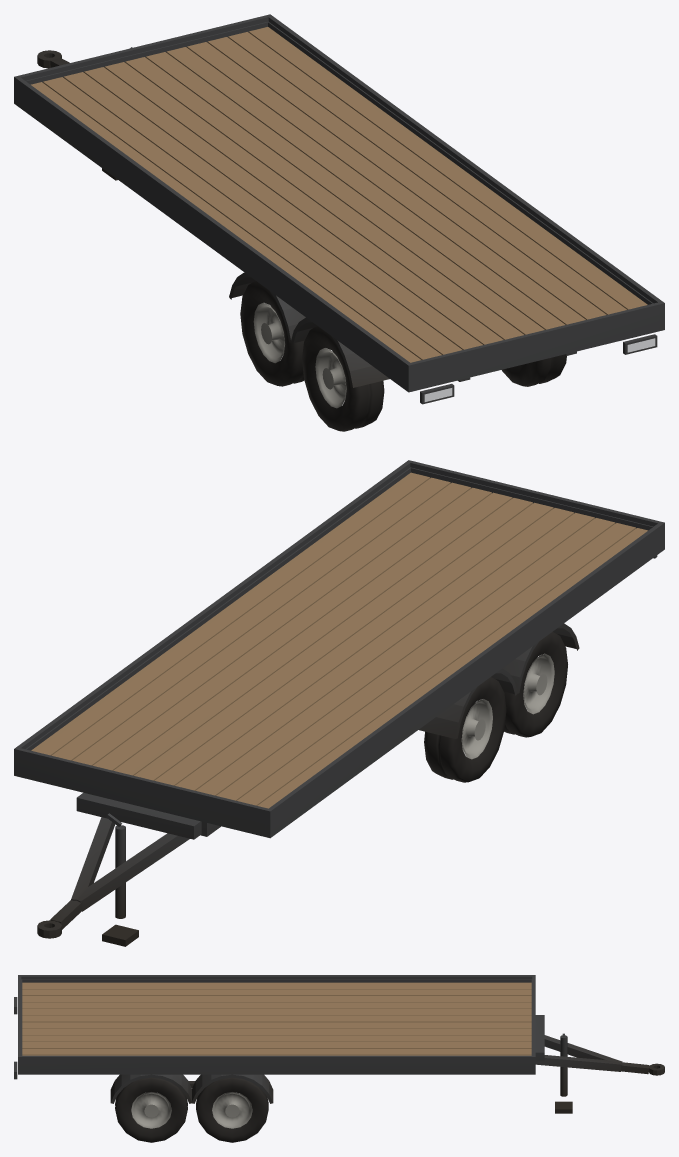
The model's file is farm-trailer.glb.
3 views of the same model, one above another, from view 1: azimuth 30°, elevation 25°; view 2: azimuth 150°, elevation 25°; view 3: azimuth 270°, elevation 25° (orthographic). The views are drawn at different scales.
Visible parts, largest first — view 1: trailer_body, wheel_3, wheel_1, wheel_4; view 2: trailer_body, wheel_1, wheel_3; view 3: trailer_body, wheel_4, wheel_2.
Part boxes in pixels (x1,y1,x2,y2): trailer_body: (14,14,664,404); wheel_3: (302,326,384,431); wheel_1: (240,281,304,386); wheel_4: (502,354,566,386); trailer_body: (14,460,664,946); wheel_1: (424,677,506,782); wheel_3: (504,631,567,737); trailer_body: (14,975,664,1113); wheel_4: (115,1077,187,1142); wheel_2: (196,1077,268,1142).
Bounding box in the file's own units: 2.4 × 1.28 × 8.05.
